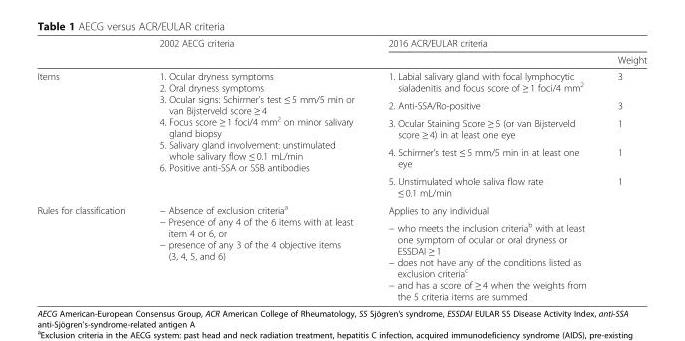table: (36, 37, 645, 301)
table column: (141, 37, 370, 301), (370, 37, 599, 301), (36, 37, 141, 301), (599, 37, 645, 301)
table column header: (36, 37, 645, 67)
table row: (36, 218, 645, 301), (36, 142, 645, 172), (36, 67, 645, 96), (36, 113, 645, 142), (36, 172, 645, 200), (36, 200, 645, 218), (36, 96, 645, 113), (36, 51, 645, 67), (36, 37, 645, 51)
table spanning cell: (141, 67, 370, 200), (141, 200, 370, 301), (370, 218, 645, 301), (36, 67, 141, 200), (36, 200, 141, 301), (141, 37, 370, 67), (370, 200, 645, 218), (370, 37, 645, 51)
